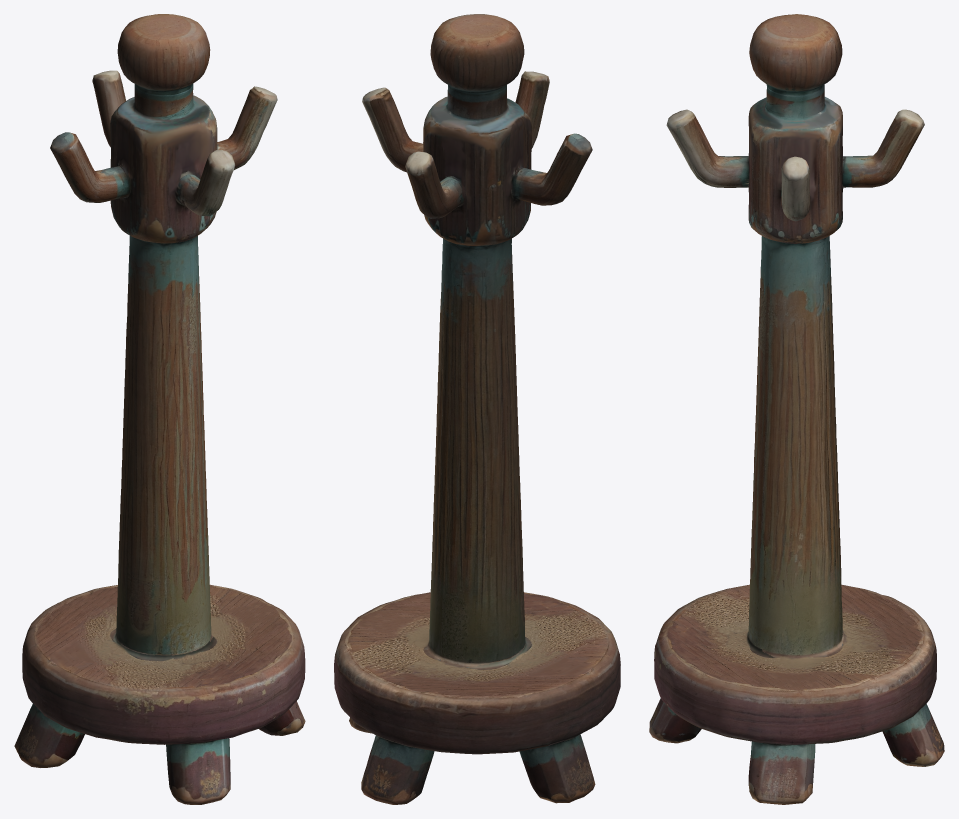
Rendered from Furn_CoatStand.fbx.
3 views of the same model, side by side, from view 1: azimuth 30°, elevation 25°; view 2: azimuth 150°, elevation 25°; view 3: azimuth 270°, elevation 25° (orthographic).
Visible parts, largest first — view 1: texture_mapping; view 2: texture_mapping; view 3: texture_mapping.
Part boxes in pixels (box(x1,y1,x2,y2)): texture_mapping: box(14, 14, 305, 804); texture_mapping: box(334, 14, 620, 804); texture_mapping: box(649, 14, 944, 804).
Size of the model in its own units: 0.3696 by 0.372 by 1.
Materials: 1 (1 with a texture image).
